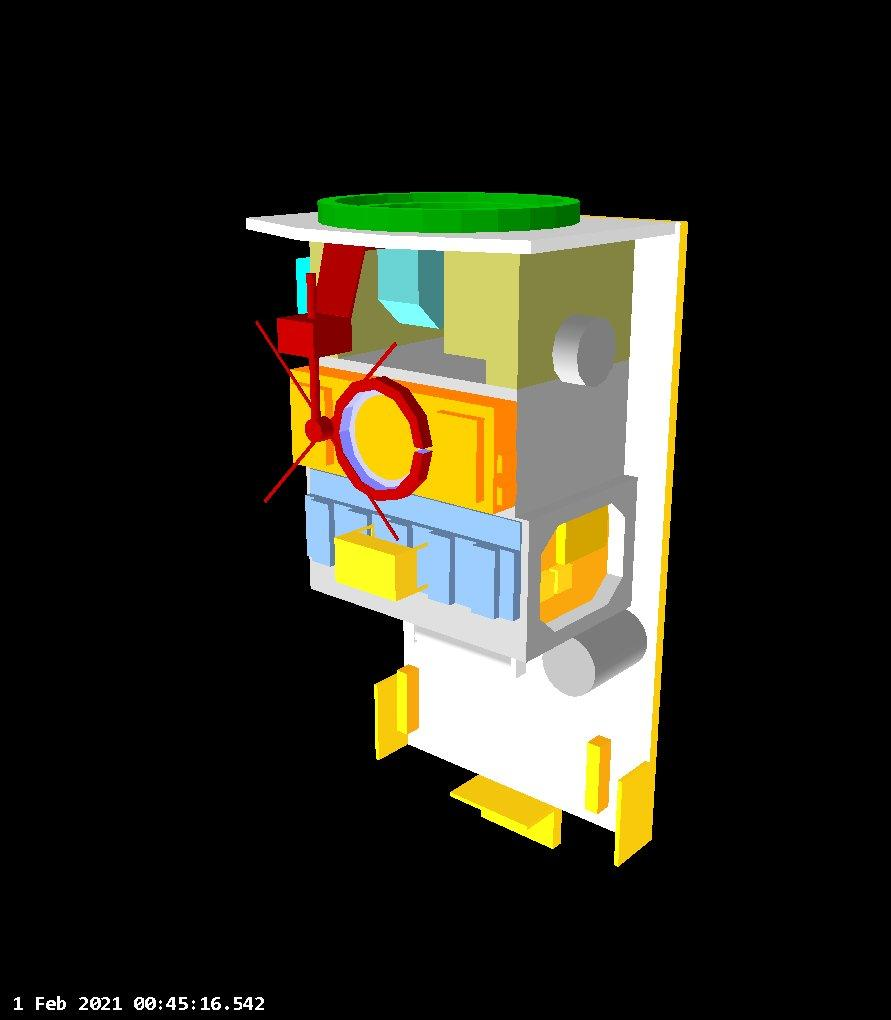antenna: (247, 308, 413, 548)
body: (238, 202, 697, 869)
